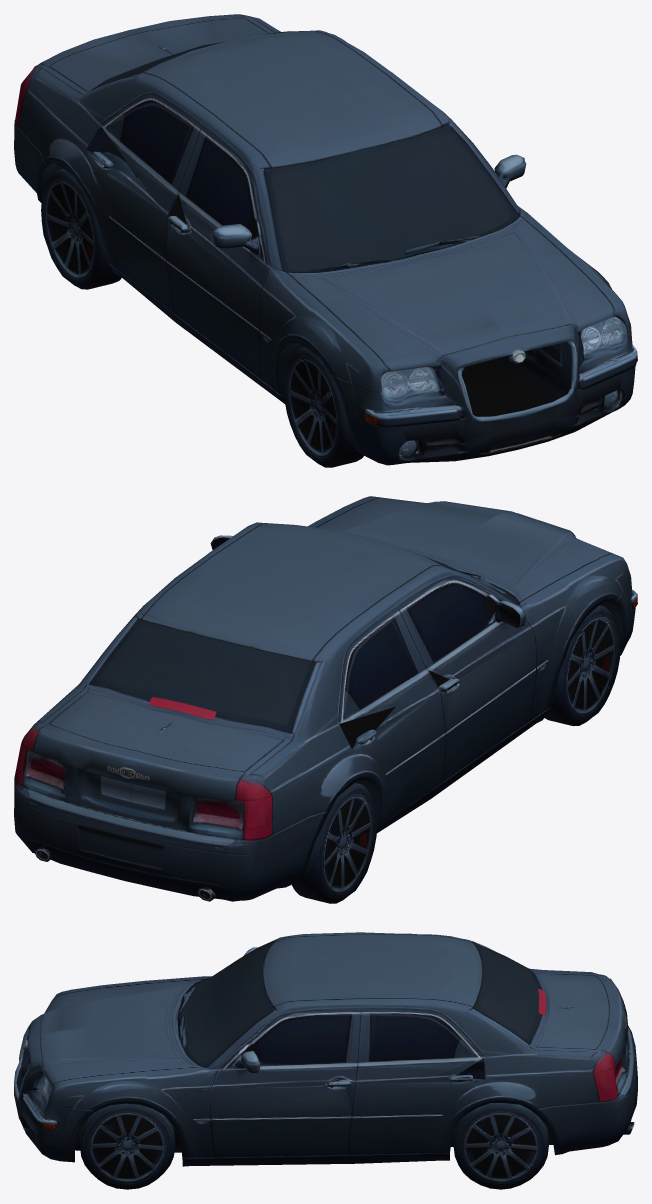
File: selected.glb
3 renders of one model, top to bottom at view 1: azimuth 30°, elevation 25°; view 2: azimuth 150°, elevation 25°; view 3: azimuth 270°, elevation 25°, orthographic. The views are drawn at different scales.
Visible parts, largest first — view 1: tripo_node_df4af4b5-230c-4903-a816-5ab39b918483; view 2: tripo_node_df4af4b5-230c-4903-a816-5ab39b918483; view 3: tripo_node_df4af4b5-230c-4903-a816-5ab39b918483.
Part boxes in pixels (x1,y1,x2,y2): tripo_node_df4af4b5-230c-4903-a816-5ab39b918483: (14,14,637,467); tripo_node_df4af4b5-230c-4903-a816-5ab39b918483: (14,496,637,903); tripo_node_df4af4b5-230c-4903-a816-5ab39b918483: (14,932,637,1189).
Bounding box in the file's own units: 0.4395 × 0.3105 × 0.998.
1 material, 1 textured.
